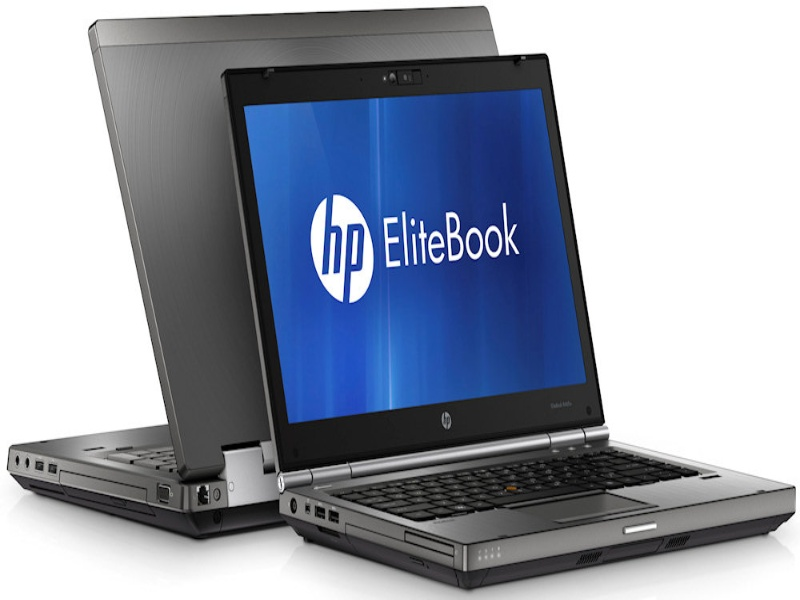hp: (312, 191, 374, 309), (439, 412, 454, 431)
